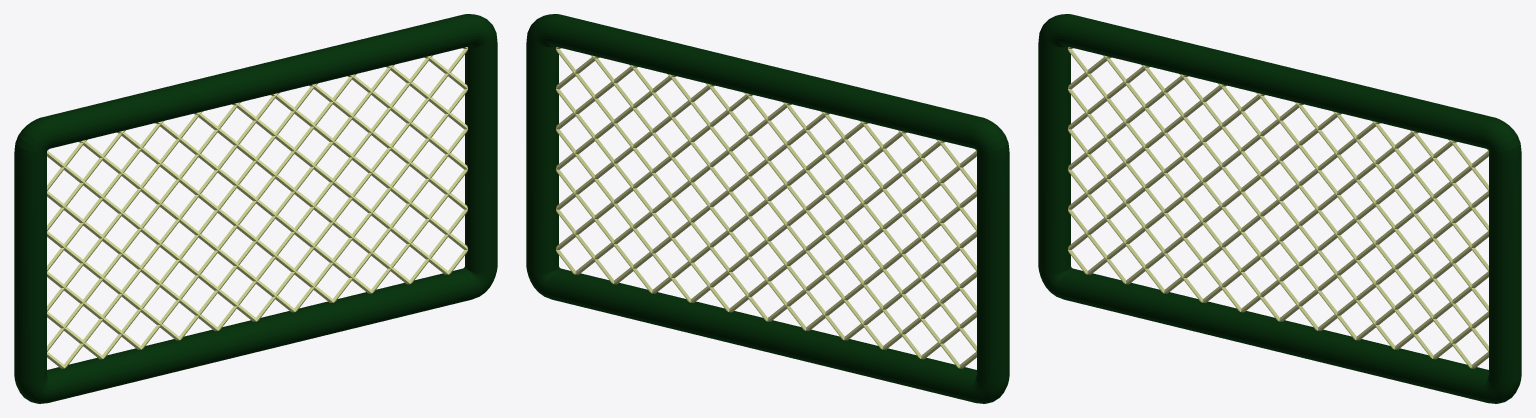
Rendered from fence_half.fbx.
3 views of the same model, side by side, from view 1: azimuth 30°, elevation 25°; view 2: azimuth 150°, elevation 25°; view 3: azimuth 330°, elevation 25° (orthographic).
Parts seen in each view (by area): view 1: posts, mesh_net; view 2: posts, mesh_net; view 3: posts, mesh_net.
Part boxes in pixels (bbox=[...]): posts: bbox=[14, 14, 497, 403]; mesh_net: bbox=[47, 47, 467, 368]; posts: bbox=[526, 14, 1009, 403]; mesh_net: bbox=[556, 47, 976, 368]; posts: bbox=[1038, 14, 1521, 403]; mesh_net: bbox=[1068, 47, 1488, 368].
Size of the model in its own units: 340 by 192 by 20.
